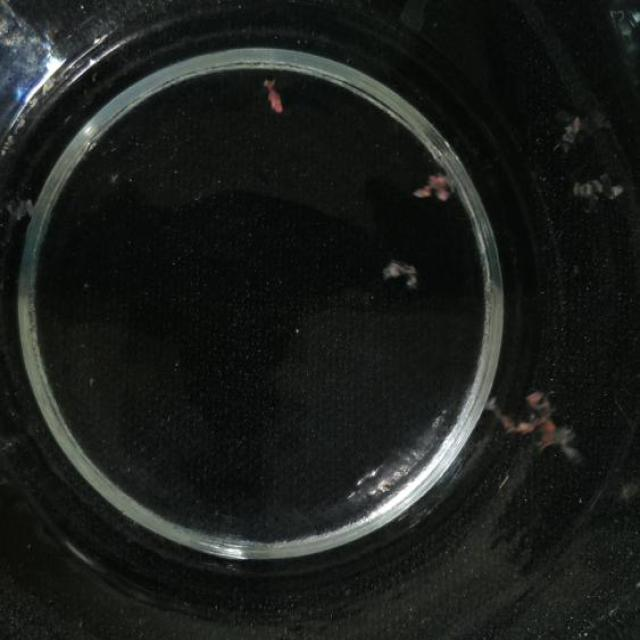fiber: (484, 386, 578, 471), (404, 160, 459, 206), (252, 62, 288, 118), (375, 255, 423, 291)
